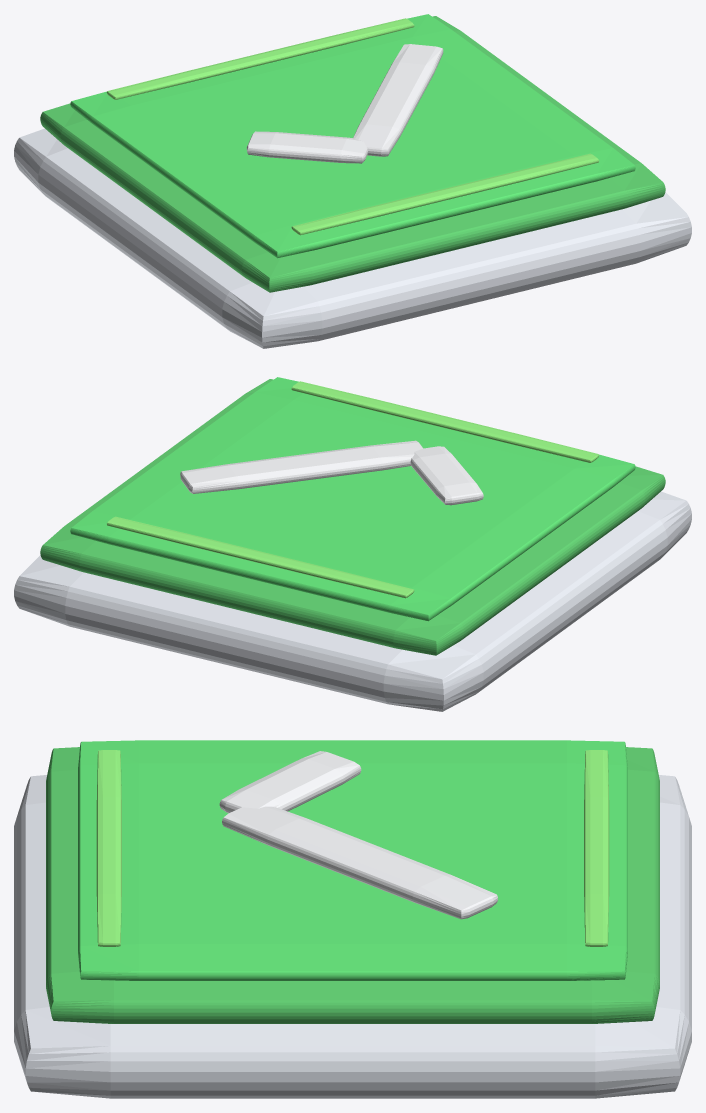
Rendered from exit_tile.glb.
The picture shows the model from 3 angles, top to bottom: view 1: azimuth 30°, elevation 25°; view 2: azimuth 150°, elevation 25°; view 3: azimuth 270°, elevation 25°; orthographic projection. The views are drawn at different scales.
Parts seen in each view (by area): view 1: exit_tile:green_face, exit_tile:floor, exit_tile:green_bezel, exit_tile:check_long, exit_tile:glow_ring_back, exit_tile:glow_ring_front, exit_tile:check_short; view 2: exit_tile:green_face, exit_tile:floor, exit_tile:green_bezel, exit_tile:check_long, exit_tile:glow_ring_front, exit_tile:glow_ring_back, exit_tile:check_short; view 3: exit_tile:green_face, exit_tile:floor, exit_tile:green_bezel, exit_tile:check_long, exit_tile:glow_ring_front, exit_tile:glow_ring_back, exit_tile:check_short.
Part boxes in pixels (bbox=[...]): exit_tile:green_face: bbox=[70, 14, 635, 258]; exit_tile:floor: bbox=[14, 128, 691, 348]; exit_tile:green_bezel: bbox=[40, 16, 665, 292]; exit_tile:check_long: bbox=[353, 44, 443, 156]; exit_tile:glow_ring_back: bbox=[106, 18, 414, 99]; exit_tile:glow_ring_front: bbox=[291, 153, 598, 235]; exit_tile:check_short: bbox=[246, 131, 367, 163]; exit_tile:green_face: bbox=[70, 377, 635, 621]; exit_tile:floor: bbox=[14, 491, 691, 711]; exit_tile:green_bezel: bbox=[40, 379, 665, 655]; exit_tile:check_long: bbox=[180, 440, 423, 493]; exit_tile:glow_ring_front: bbox=[291, 381, 599, 462]; exit_tile:glow_ring_back: bbox=[107, 516, 414, 598]; exit_tile:check_short: bbox=[410, 446, 483, 505]; exit_tile:green_face: bbox=[78, 740, 627, 980]; exit_tile:floor: bbox=[14, 775, 691, 1098]; exit_tile:green_bezel: bbox=[46, 747, 659, 1023]; exit_tile:check_long: bbox=[222, 806, 497, 919]; exit_tile:glow_ring_front: bbox=[96, 750, 121, 946]; exit_tile:glow_ring_back: bbox=[584, 750, 609, 946]; exit_tile:check_short: bbox=[219, 751, 361, 813].
Size of the model in its own units: 0.9488 by 0.2285 by 0.9488.
